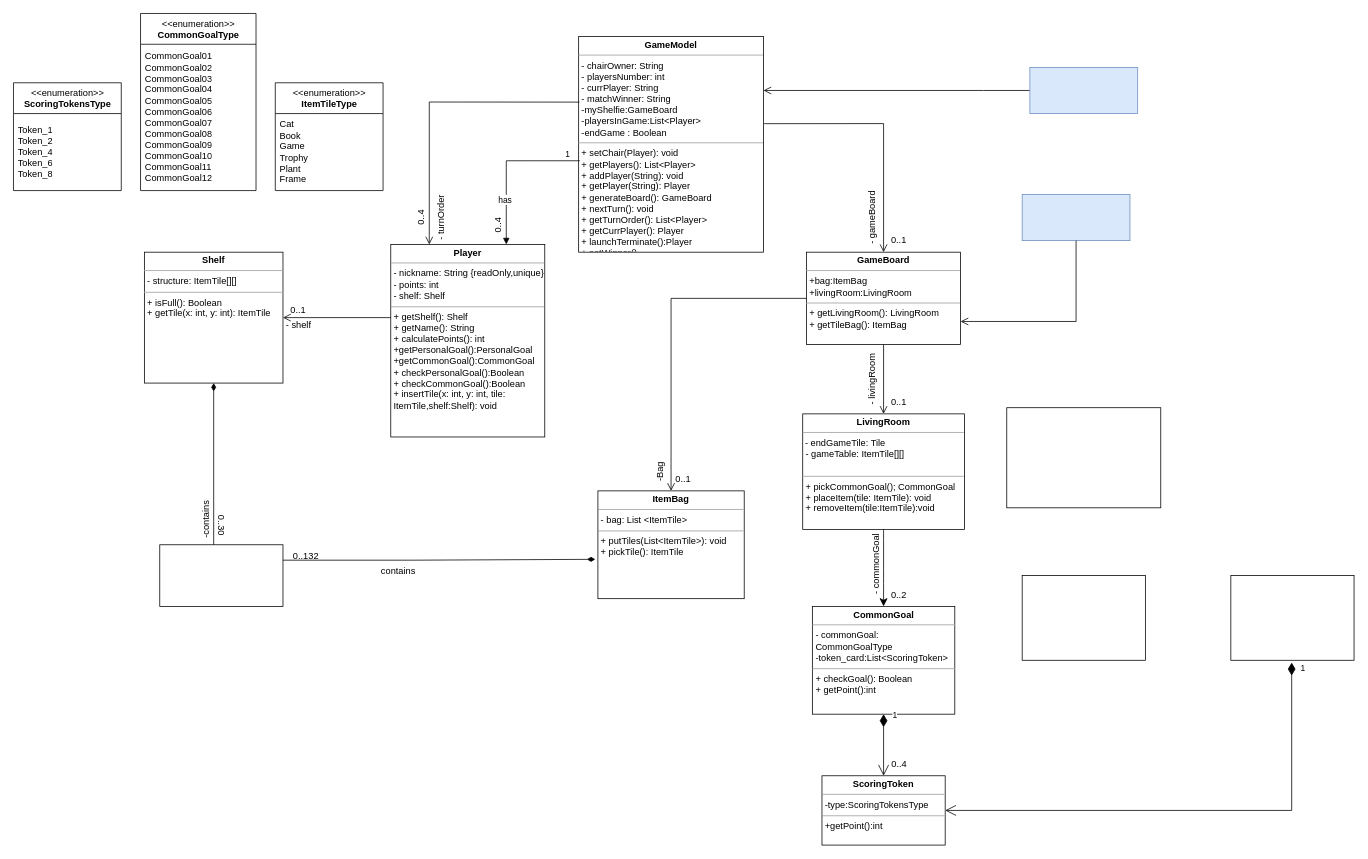
The diagram is 1368 pixels wide and 859 high, and some of its shapes have lost their labels. The centre of each missing label's shape, as x and y in pixels:
EndGameToken endgame:ScoringTypeToken +checkGoal():Boolean +getPoint():int: point 1292,617
GameBoardController: point 1075,217
GameController: point 1083,90
ItemTile - type: ItemsTileType: point 221,575
PersonalGoal + checkGoal(): boolean +getpoints():int: point 1083,617
{abstract } Card + checkGoal():abstract + getPoint():abstract: point 1083,457
